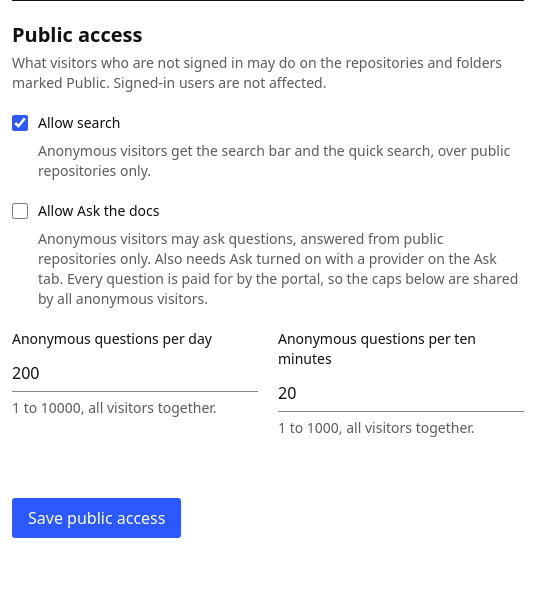
Scenario: PublicAccessSettings › shows the server's refusal and keeps what was typed
Step 1. Replace the text in the field labelled "Anonymous questions per day" with "75" → (135, 374), box [12,355,258,392]
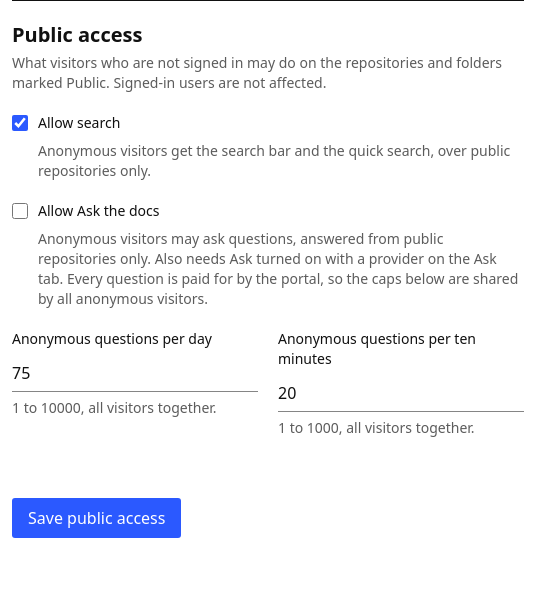
Step 2. Click the button "Save public access" → (97, 518), box [12,498,181,538]
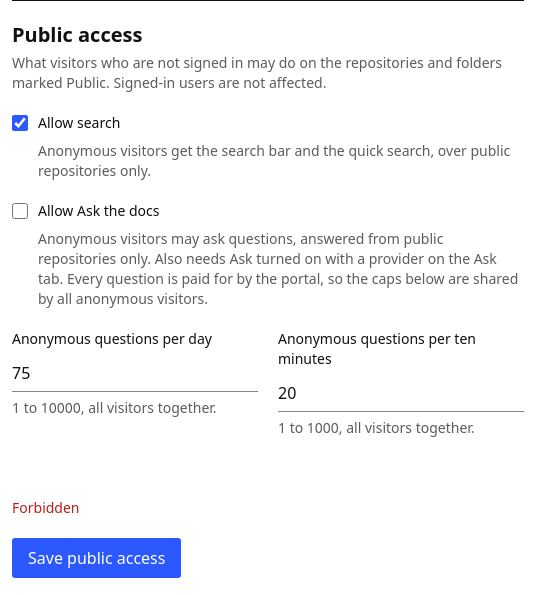
Result: the message with test id "public-access-problem" reads "Forbidden" at [12,498,80,517]
